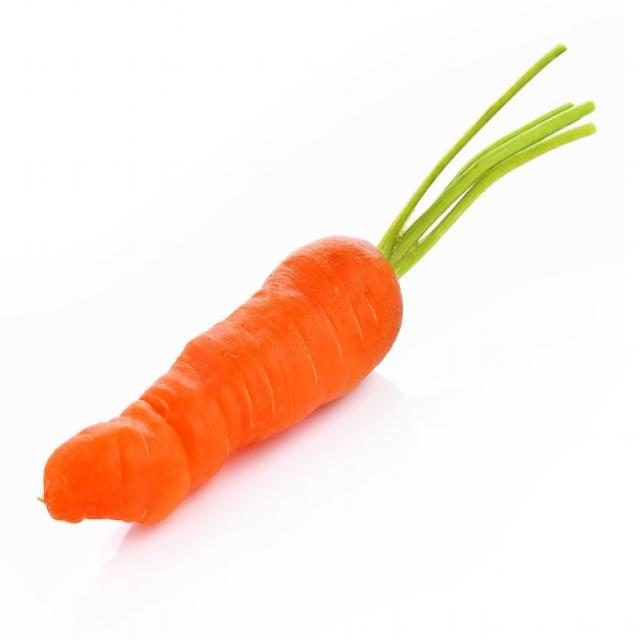Carrot: (56, 44, 598, 525)
